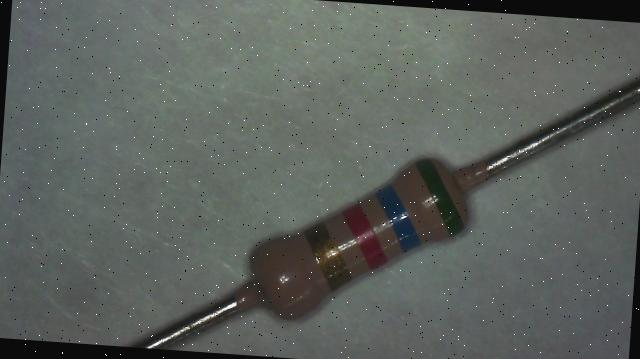blue: (372, 183, 424, 253)
gold: (300, 220, 354, 288)
green: (410, 158, 468, 237)
red: (338, 202, 390, 270)
resistor: (204, 111, 510, 356)
